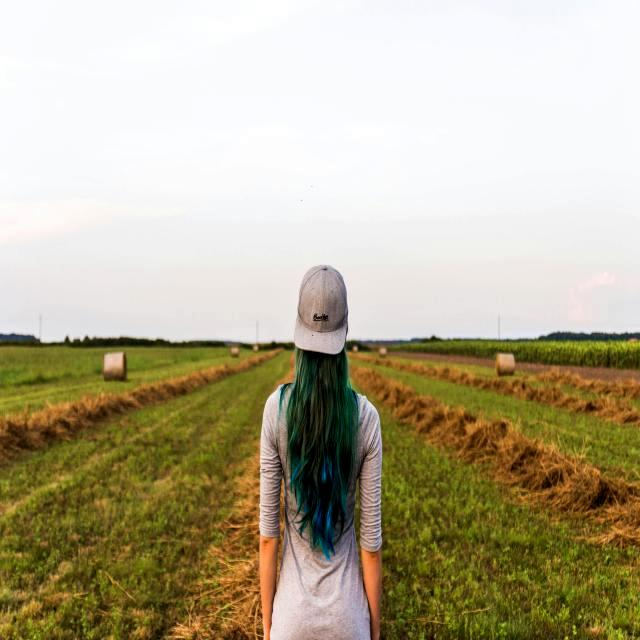no_hard_hat: (294, 265, 348, 355)
person: (259, 265, 382, 640)
